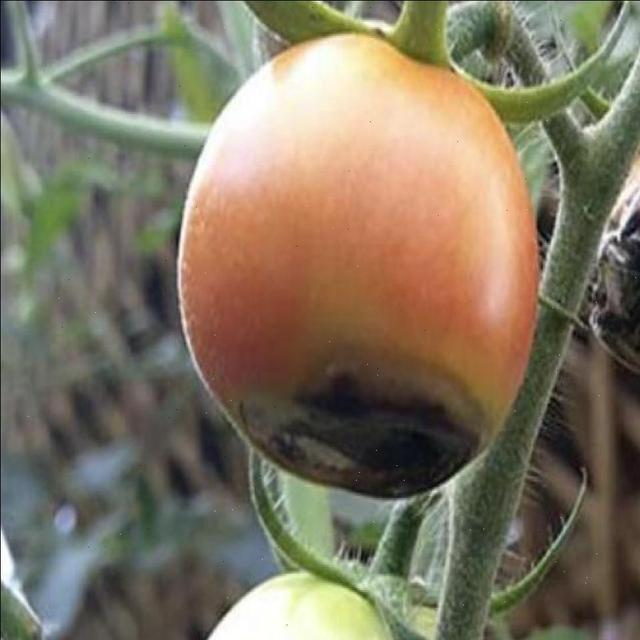Blossom End Rot Fruit: (167, 231, 336, 332)
